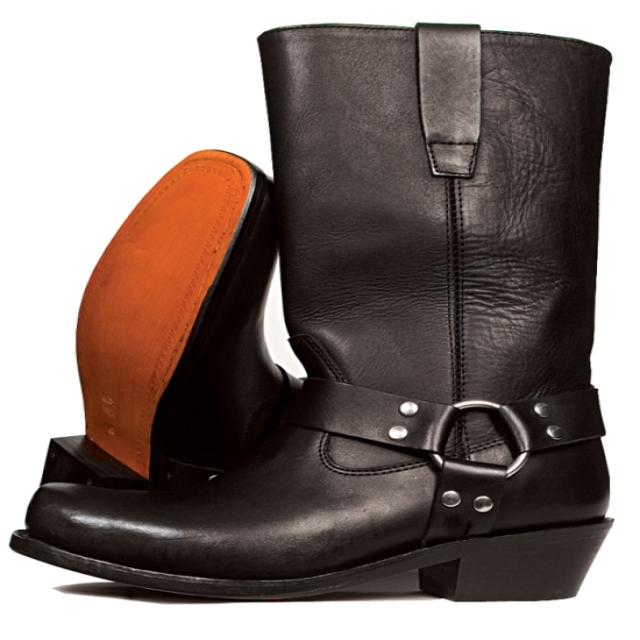boot: (20, 21, 628, 616)
